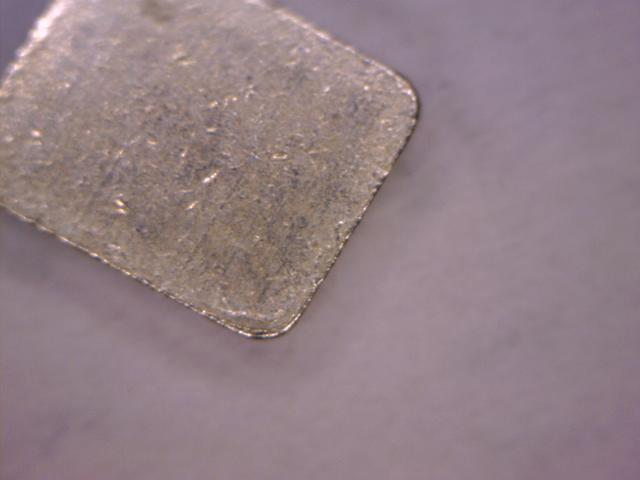ok: (2, 5, 427, 348)
